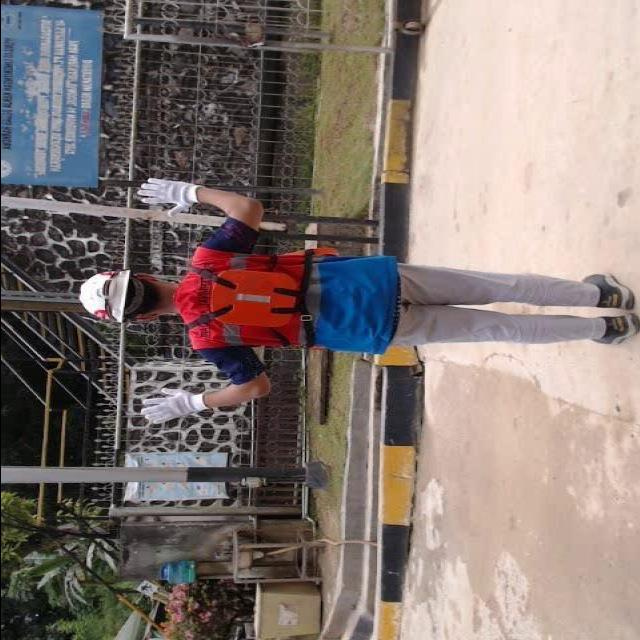helmet: (74, 262, 135, 328)
jacket: (165, 232, 318, 362)
